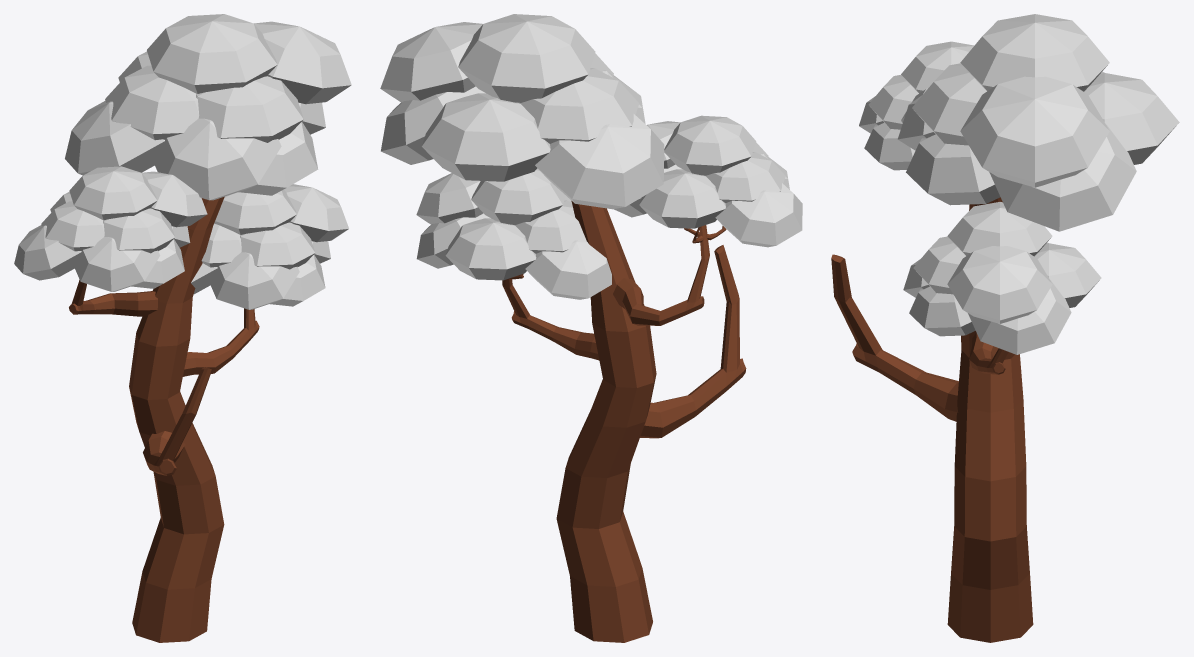
The model's file is Tree_Branched_3.fbx.
3 views of the same model, side by side, from view 1: azimuth 30°, elevation 25°; view 2: azimuth 150°, elevation 25°; view 3: azimuth 270°, elevation 25° (orthographic). The views are drawn at different scales.
Visible parts, largest first — view 1: Sphere.006, Cylinder, Sphere.026, Sphere.013; view 2: Sphere.006, Cylinder, Sphere.013, Sphere.026; view 3: Sphere.006, Cylinder, Sphere.013, Sphere.026.
Part boxes in pixels (box(x1,y1,x2,y2)): Sphere.006: box(65, 14, 351, 200); Cylinder: box(69, 196, 259, 642); Sphere.026: box(14, 166, 207, 291); Sphere.013: box(191, 184, 348, 309); Sphere.006: box(380, 14, 664, 209); Cylinder: box(502, 201, 746, 642); Sphere.013: box(416, 168, 611, 299); Sphere.026: box(614, 115, 802, 247); Sphere.006: box(897, 14, 1179, 231); Cylinder: box(831, 197, 1033, 642); Sphere.013: box(903, 202, 1101, 354); Sphere.026: box(859, 41, 974, 170).
Bounding box in the file's own units: 1066 × 1640 × 814.
